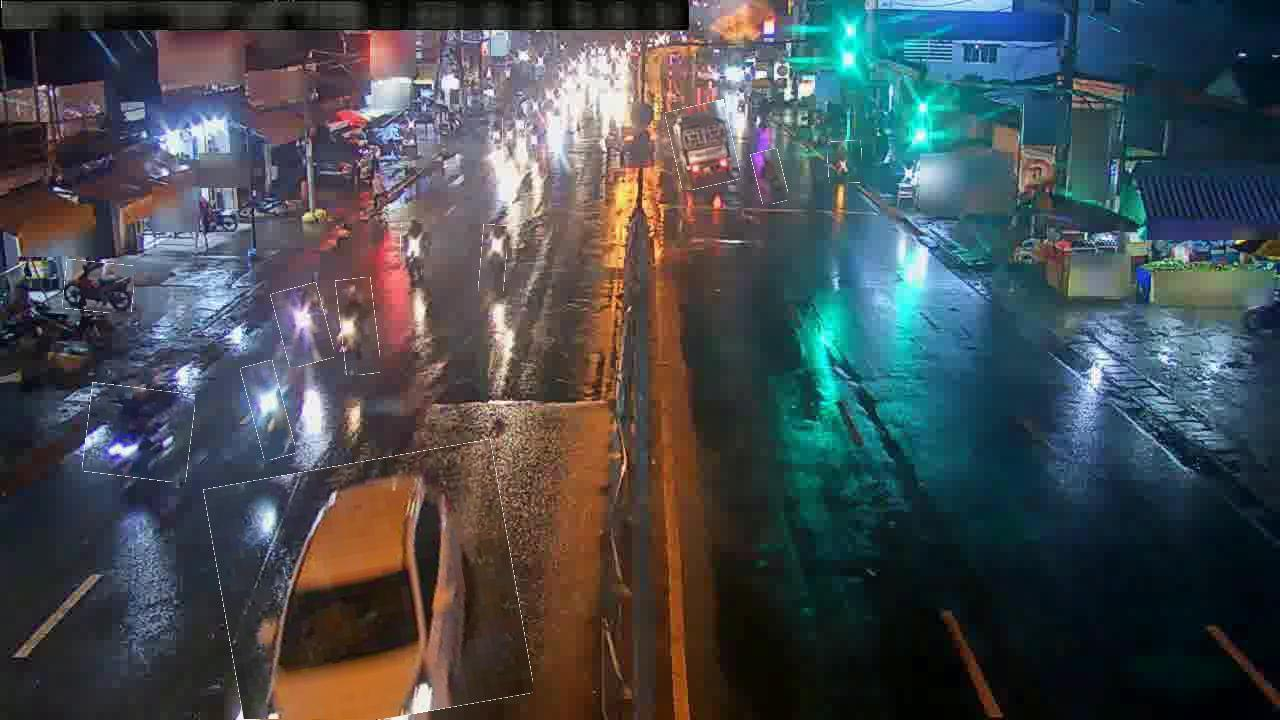container: (213, 450, 525, 719), (669, 102, 737, 189)
motorbike: (84, 385, 194, 480), (275, 285, 331, 366), (246, 362, 291, 460), (338, 278, 379, 376), (63, 261, 134, 313), (753, 149, 786, 204), (480, 225, 507, 292), (828, 140, 863, 184), (401, 222, 423, 276), (502, 118, 519, 162), (526, 122, 542, 160)
